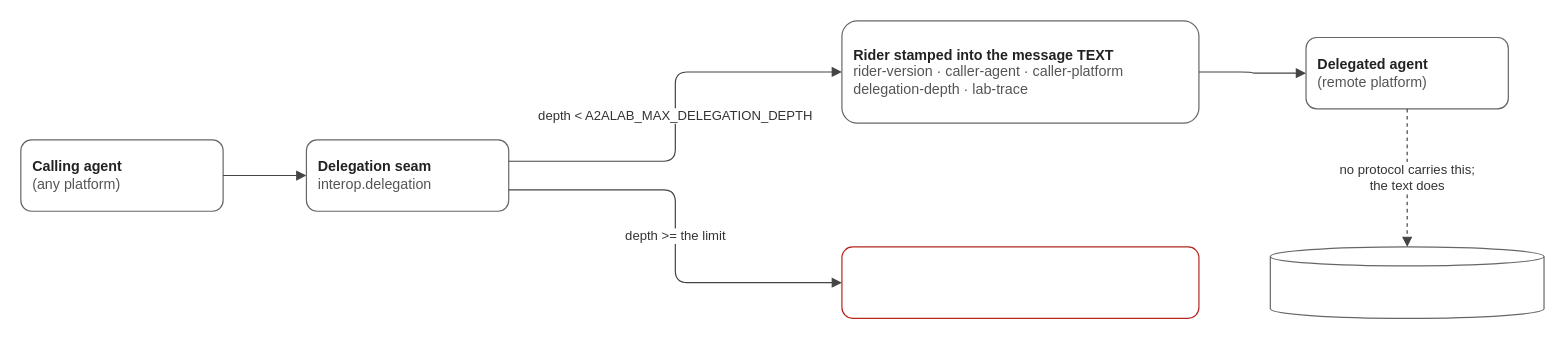
Some shapes in this 1565 by 339 pixel diagram are drawn without their labels. The centre of each missing label's shape, as x and y in pixels:
"Refusal returned wire-visible, zero calls made" goes at (x=1020, y=282).
"The remote platform's OWN logs rider text lands verbatim" goes at (x=1406, y=282).
